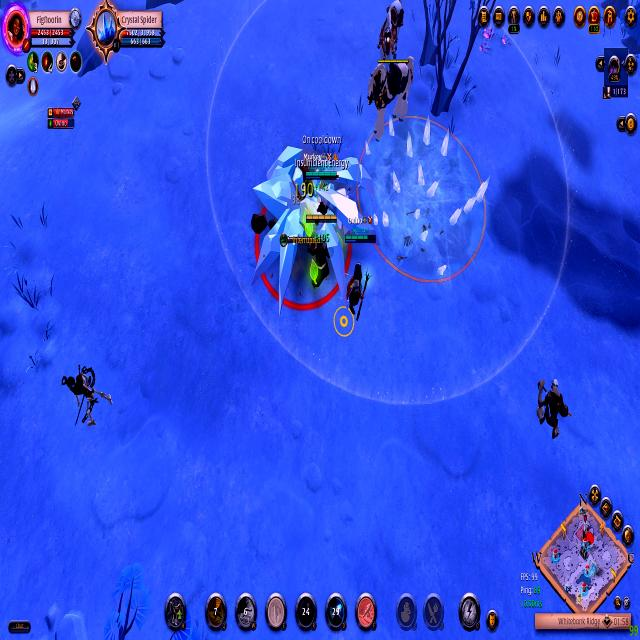ore: (256, 142, 374, 318), (59, 356, 119, 438), (531, 372, 575, 444)
red: (298, 141, 344, 295), (336, 210, 380, 348)
silver: (359, 117, 484, 280)
